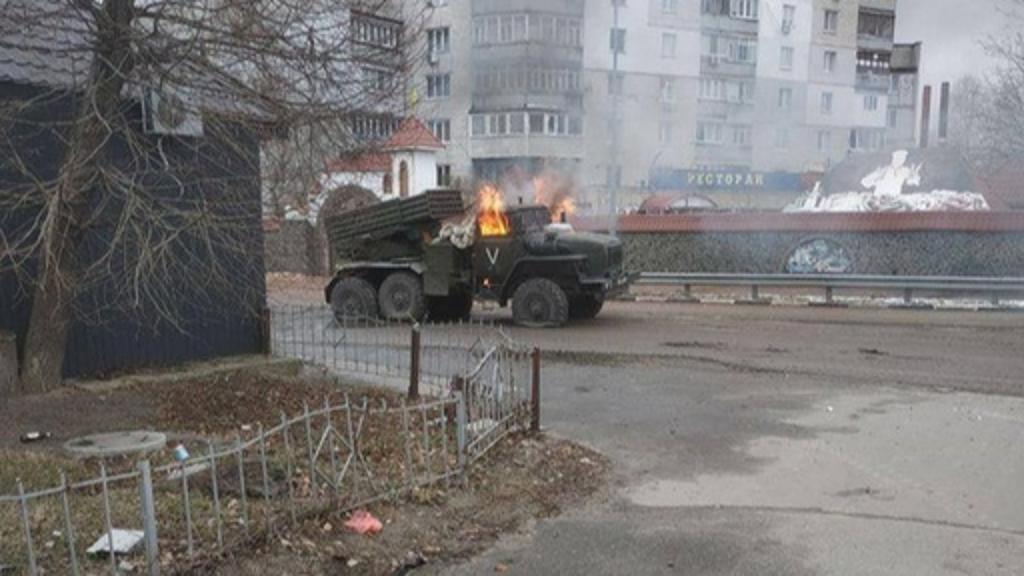MLRS: (320, 184, 632, 332)
